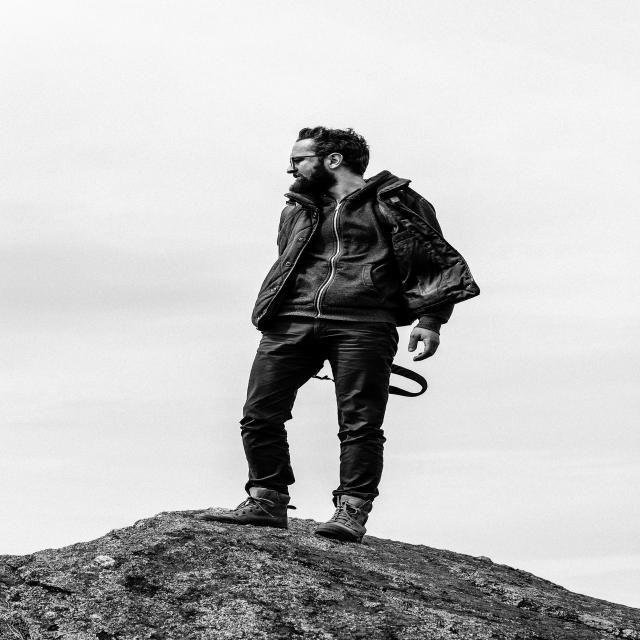standing: (200, 122, 464, 544)
